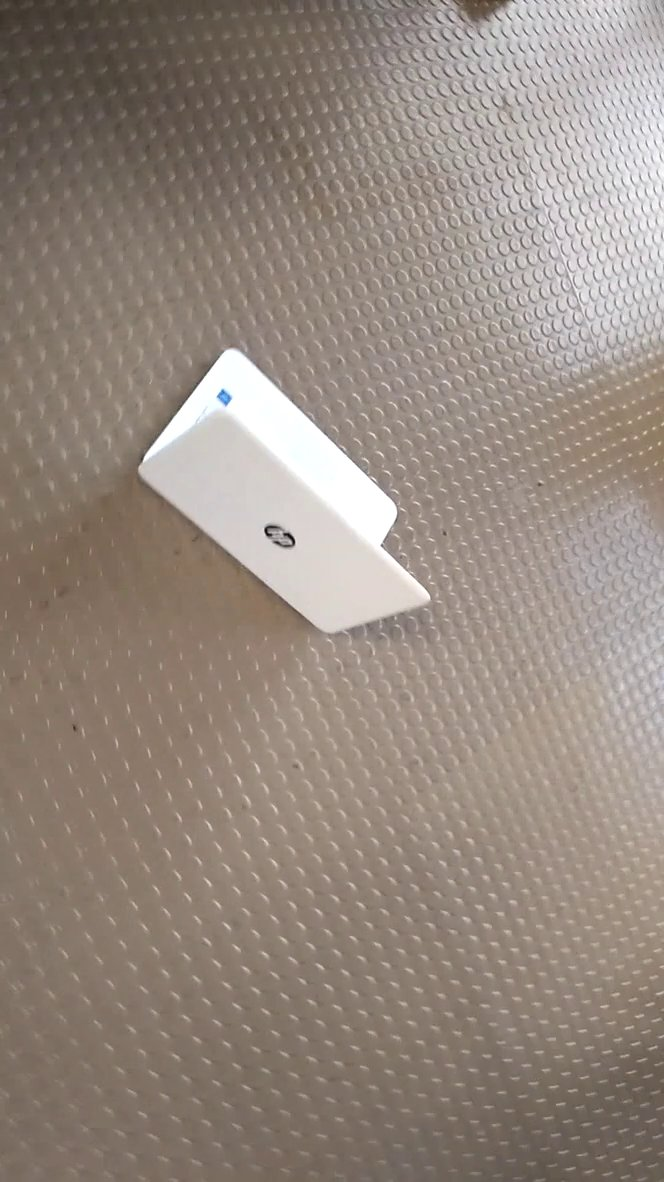laptop: (132, 334, 443, 651)
